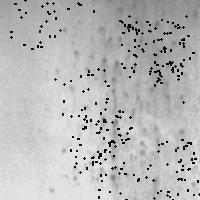pitted_surface: (62, 21, 177, 188), (128, 15, 187, 75), (119, 20, 178, 77), (70, 116, 127, 173), (74, 110, 130, 167), (153, 139, 200, 197), (54, 68, 107, 118), (153, 52, 200, 101), (92, 163, 152, 200), (10, 0, 55, 48), (33, 0, 93, 30), (166, 169, 200, 200)
